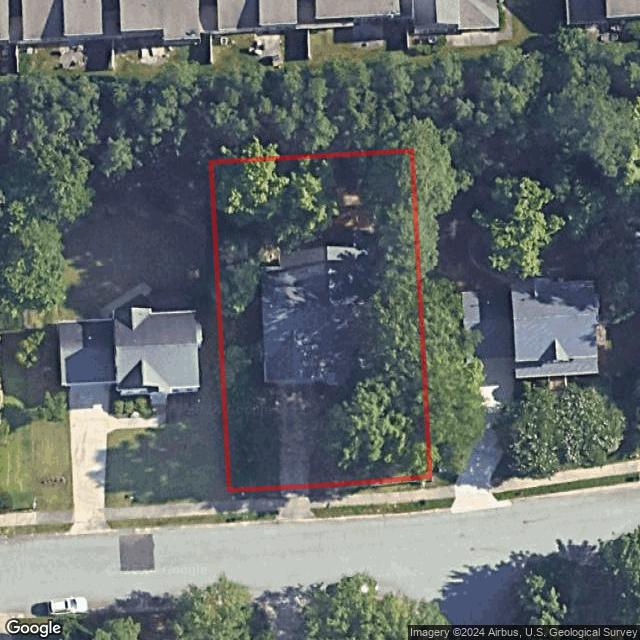Driveway: (276, 384, 323, 487)
Extra-Driveway: (275, 484, 322, 522)
Extra-Lawn: (310, 476, 433, 498), (310, 500, 435, 517), (228, 487, 281, 500), (231, 510, 278, 522)
Extra-Sidewalk: (310, 489, 432, 508), (230, 498, 281, 514)
House: (261, 247, 381, 386)
Lawn: (210, 150, 431, 490)
Other: (336, 187, 373, 231), (260, 245, 280, 265)
